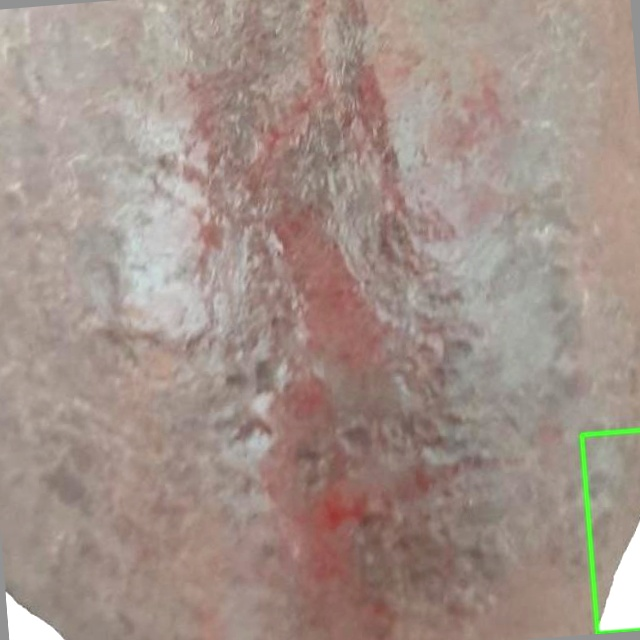Contact Dermatitis: (581, 430, 639, 633)
